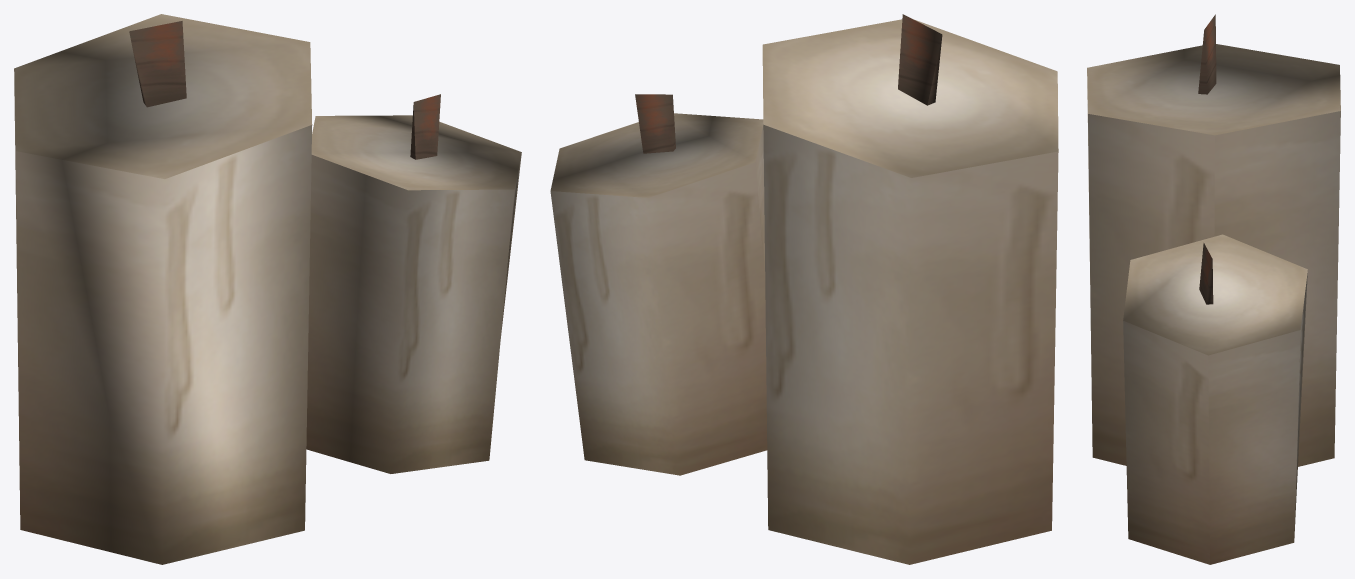
The model's file is candle.fbx.
The picture shows the model from 3 angles, left to right: view 1: azimuth 30°, elevation 25°; view 2: azimuth 150°, elevation 25°; view 3: azimuth 270°, elevation 25°; orthographic projection. The views are drawn at different scales.
Parts seen in each view (by area): view 1: candleMesh; view 2: candleMesh; view 3: candleMesh.
Boxes of the visible parts, <box> form: candleMesh: <box>14,14,521,564</box>; candleMesh: <box>550,14,1058,564</box>; candleMesh: <box>1087,14,1340,564</box>.
Size of the model in its own units: 0.6419 by 0.5816 by 0.3301.
